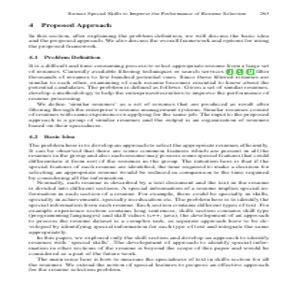text: (21, 10, 272, 272)
